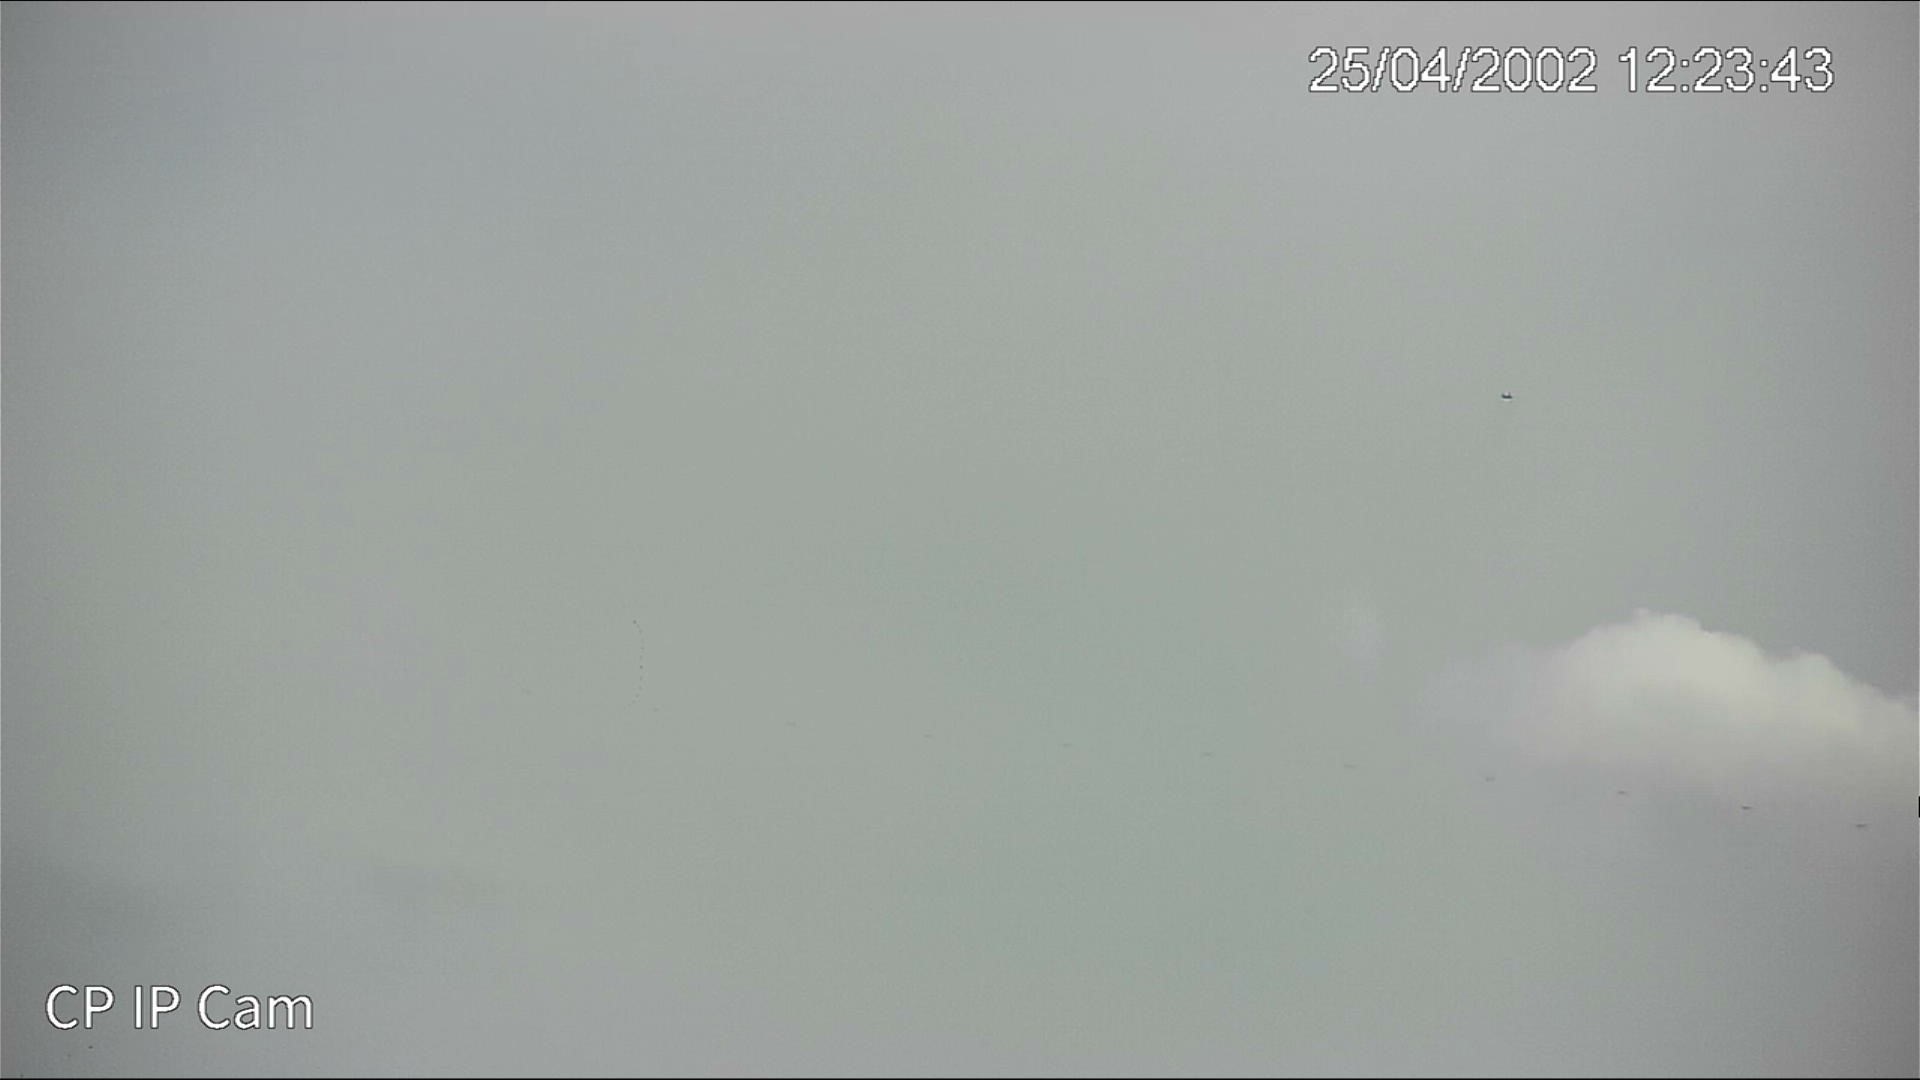SU_30: (1499, 392, 1513, 401)
